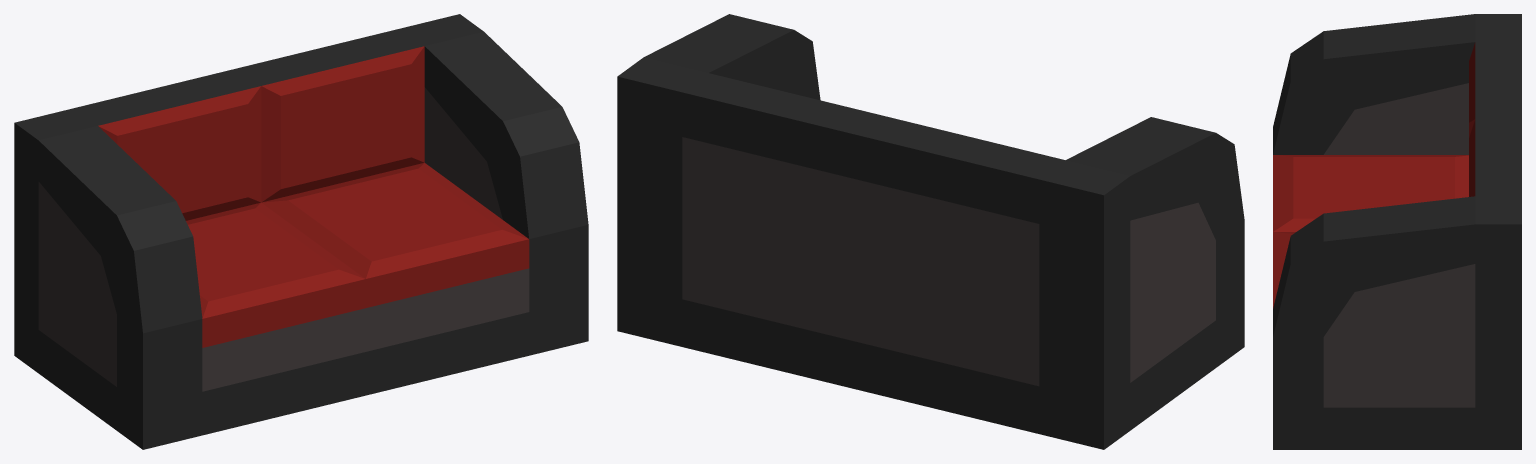
Rendered from Couch.fbx.
3 renders of one model, left to right at view 1: azimuth 30°, elevation 25°; view 2: azimuth 150°, elevation 25°; view 3: azimuth 270°, elevation 25°, orthographic. The views are drawn at different scales.
Visible parts, largest first — view 1: Couch; view 2: Couch; view 3: Couch.
Boxes of the visible parts, x1=… form: Couch: x1=14, y1=14, x2=588, y2=449; Couch: x1=617, y1=14, x2=1244, y2=449; Couch: x1=1273, y1=14, x2=1521, y2=449.
Bounding box in the file's own units: 1600 × 800 × 800.
